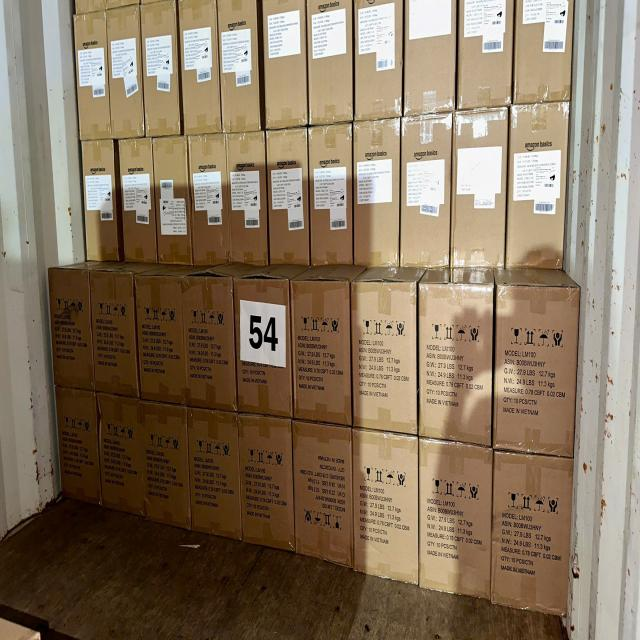Carton: (500, 283, 580, 453), (495, 454, 576, 614), (417, 281, 492, 445), (417, 438, 493, 598), (351, 430, 420, 585), (349, 279, 418, 434), (512, 105, 571, 277), (289, 278, 352, 425), (291, 422, 353, 569), (456, 113, 510, 272), (233, 280, 293, 418), (240, 416, 298, 554), (180, 276, 238, 412), (402, 120, 452, 273), (188, 408, 244, 544), (134, 275, 187, 406), (354, 122, 399, 270), (140, 399, 192, 527), (88, 266, 138, 396), (312, 123, 355, 270), (100, 395, 148, 521), (460, 0, 515, 108), (49, 269, 96, 394), (518, 0, 576, 101), (262, 0, 308, 127), (406, 0, 457, 114), (268, 133, 310, 270), (354, 0, 402, 119), (310, 0, 356, 122), (218, 0, 260, 133), (54, 391, 101, 508), (182, 0, 222, 133), (227, 136, 266, 268), (142, 4, 180, 137), (191, 138, 229, 268), (120, 140, 159, 265), (157, 139, 194, 268), (82, 142, 120, 266), (110, 6, 144, 138), (74, 13, 106, 140)
